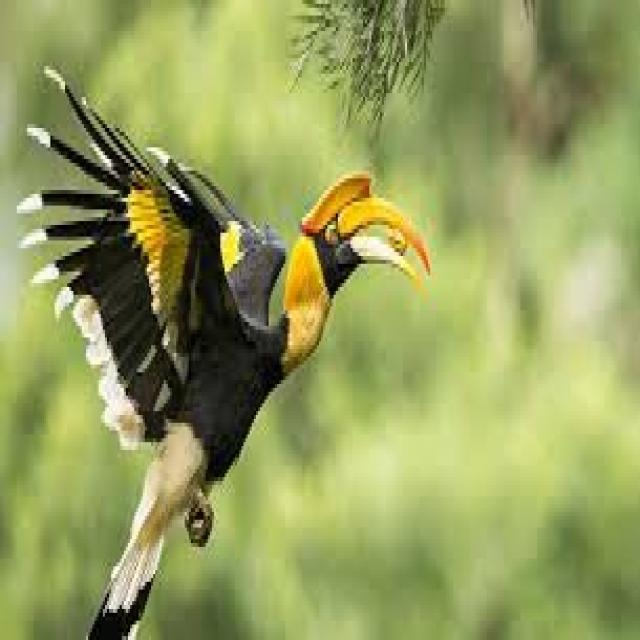Hornbill: (47, 98, 434, 615)
